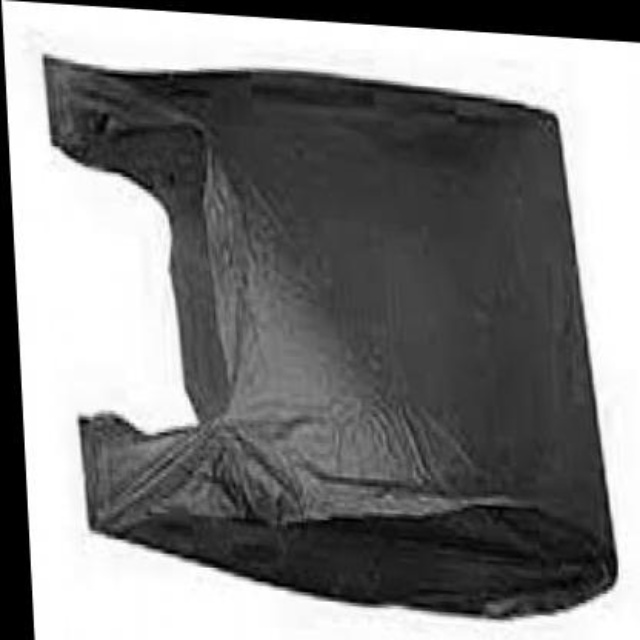trash: (46, 58, 614, 615)
